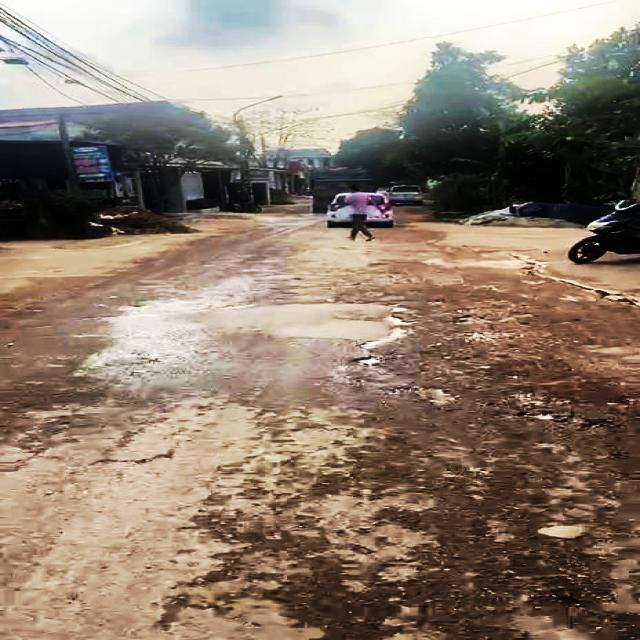pothole: (496, 541, 640, 636), (506, 387, 621, 430), (345, 302, 414, 368), (408, 386, 461, 409)
